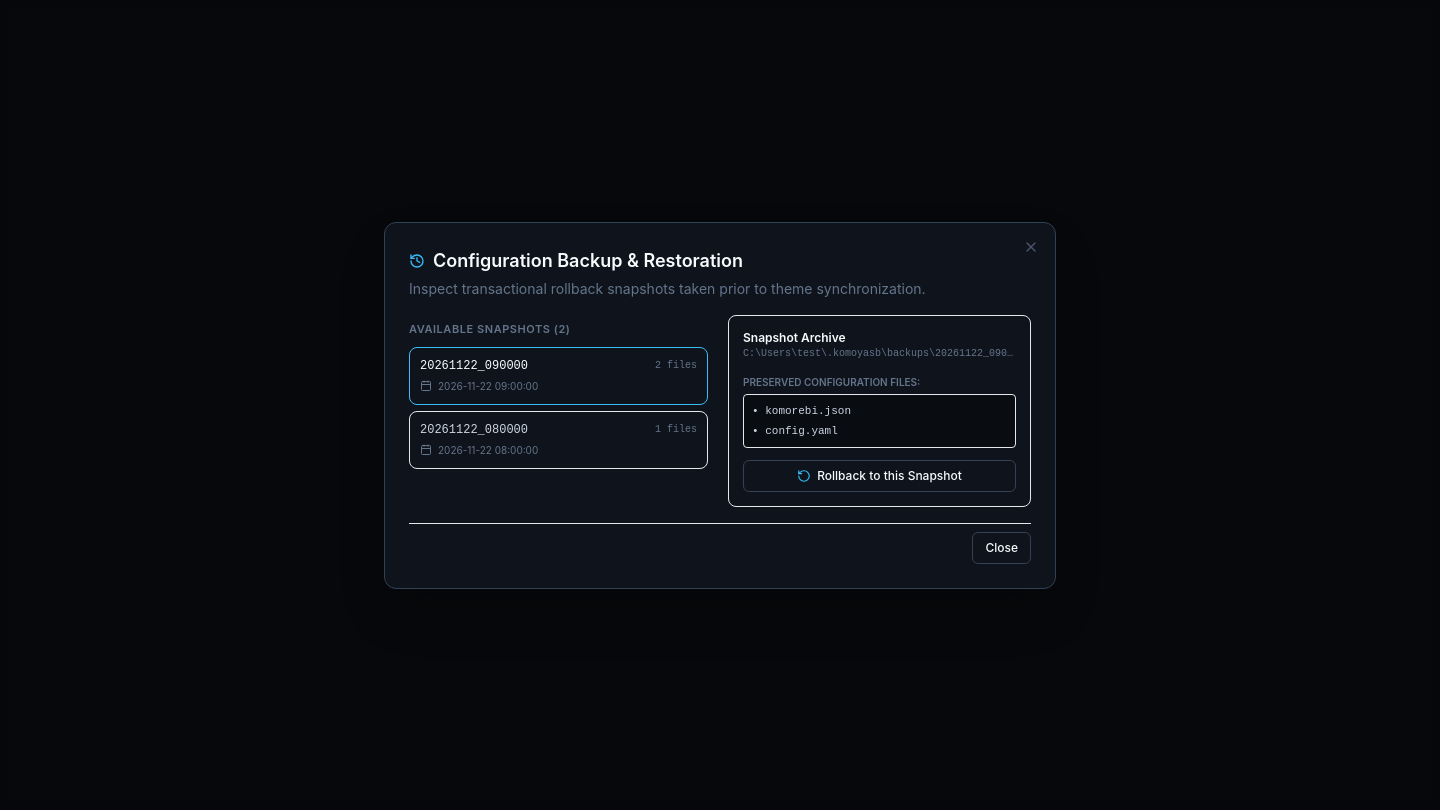
it: BackupRestoreModal Component › switches selected snapshot and shows details
Check: the text "20261122_090000" is shown, box [420,358,528,374]
# Click second snapshot
Click the text "20261122_080000" at (474, 430), box [420,422,528,438]
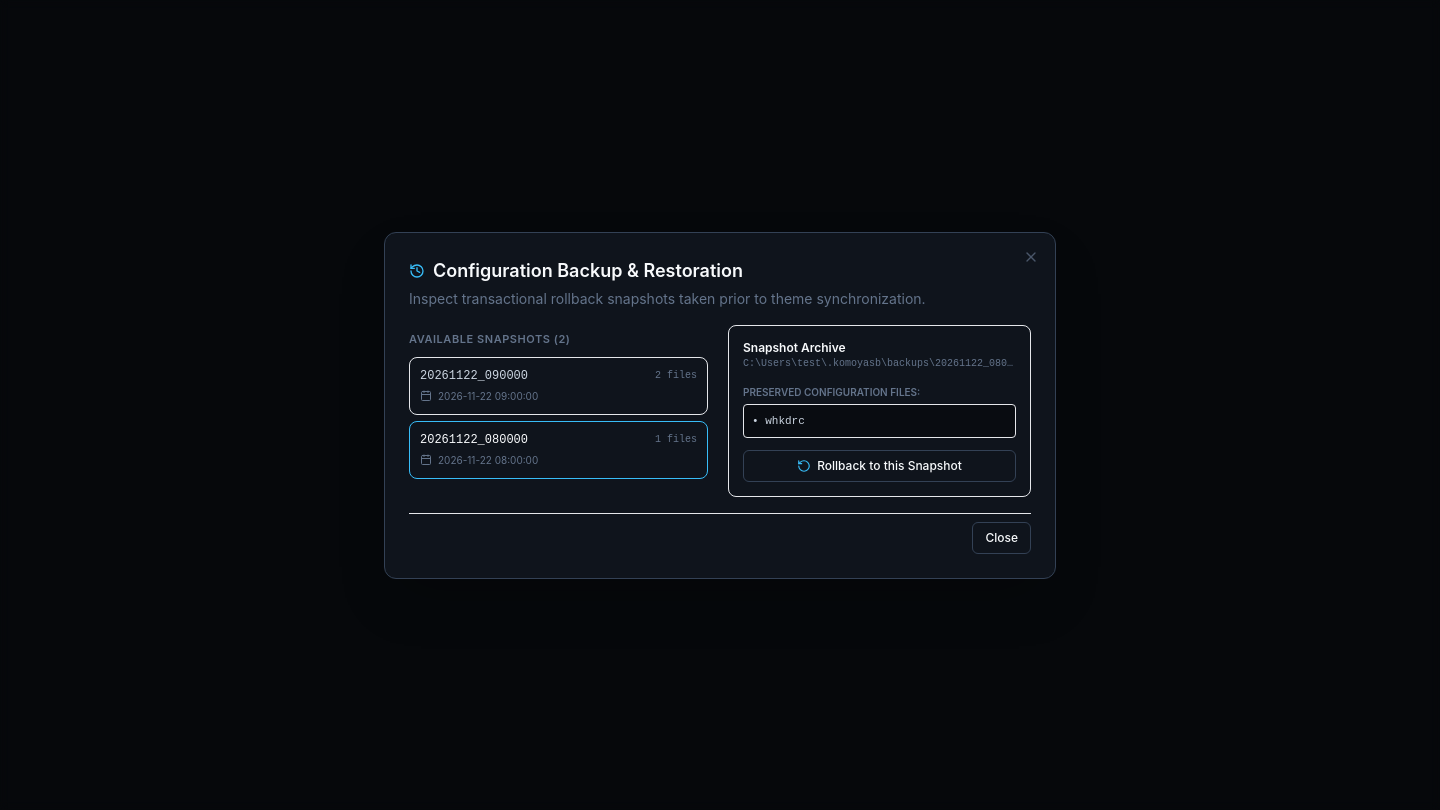
Check: the text "• whkdrc" is shown, box [752,414,805,426]
